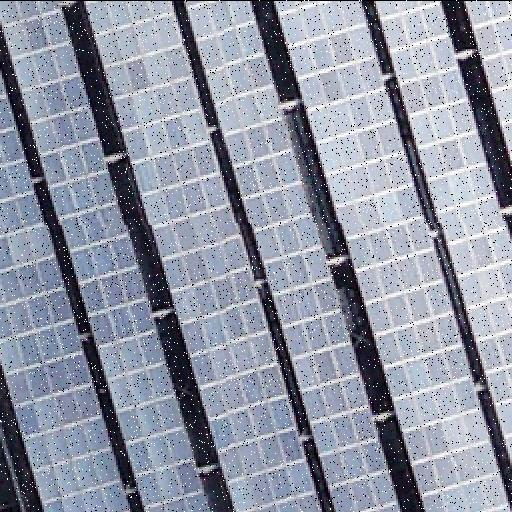solar-panel: (273, 0, 511, 512), (85, 0, 323, 512), (186, 0, 402, 512), (1, 0, 215, 512), (372, 1, 512, 463), (0, 70, 128, 512), (464, 1, 512, 159)
